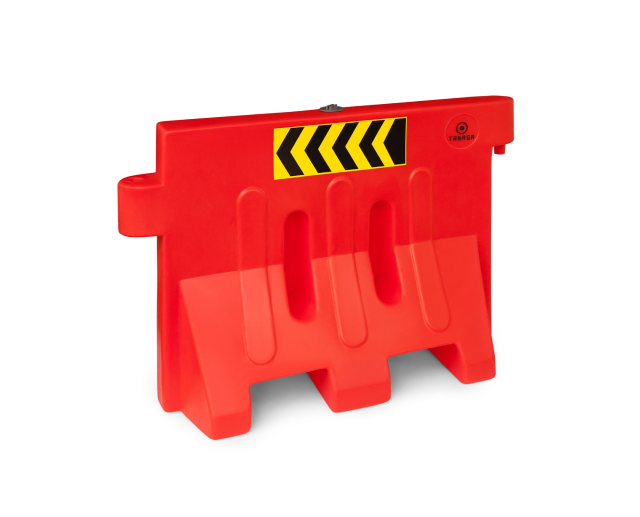Barrier: (108, 98, 530, 443)
